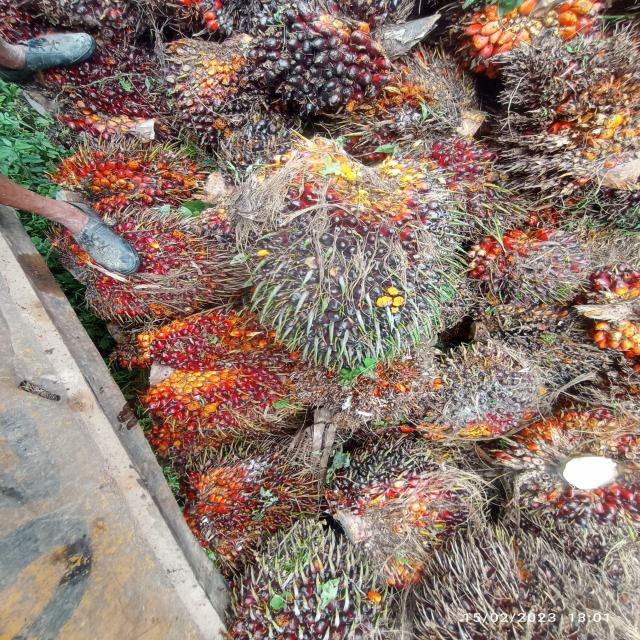fraksi 00: (218, 113, 480, 392), (228, 0, 436, 137), (322, 432, 484, 540), (391, 341, 557, 444), (136, 29, 278, 142)
fraksi 3: (106, 298, 337, 447), (158, 420, 334, 558), (50, 208, 247, 325)
fraksi 4: (498, 32, 640, 193), (43, 130, 226, 220)
